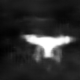plane: (19, 33, 76, 65)
